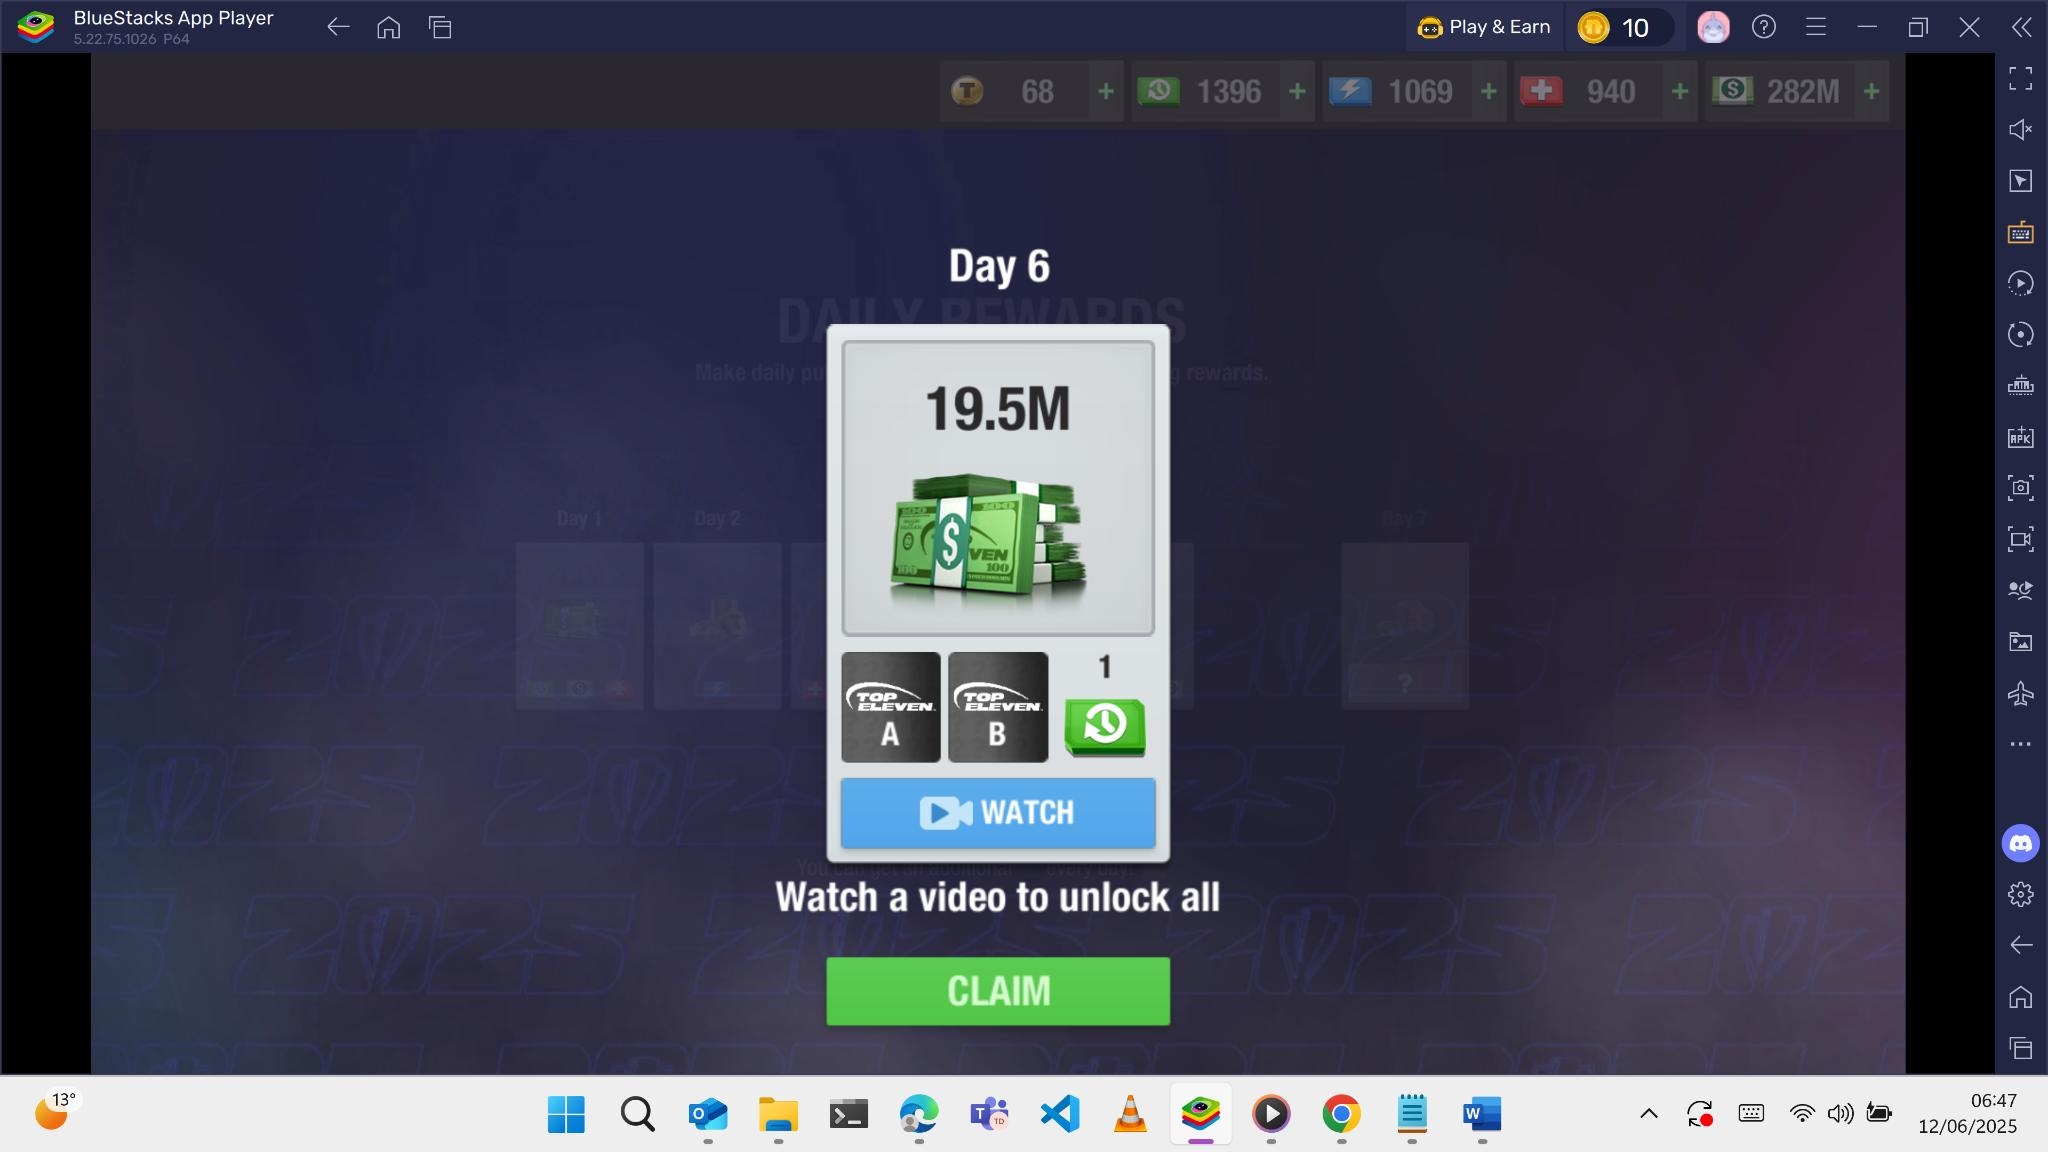daily_rewards_watch_ads: (840, 778, 1155, 850)
